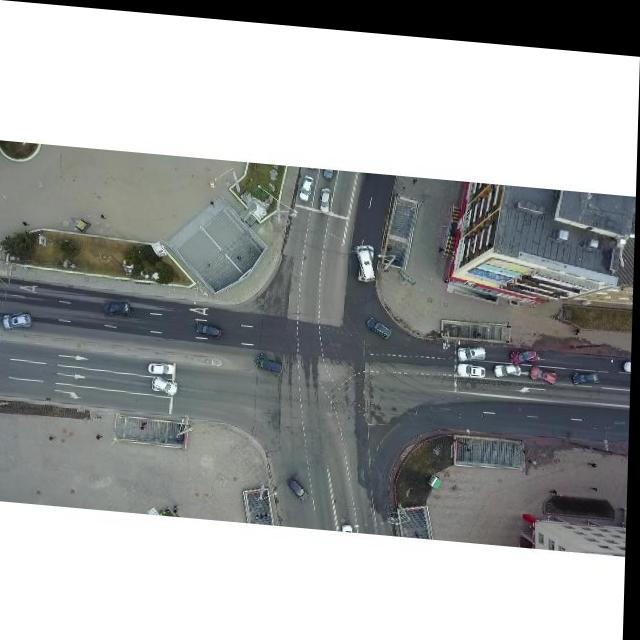vehicle: (355, 235, 380, 277), (256, 346, 288, 375), (2, 310, 35, 331), (367, 309, 395, 333), (290, 468, 312, 498), (104, 295, 134, 316), (153, 373, 181, 393), (458, 336, 489, 354), (530, 355, 559, 374), (197, 318, 225, 336), (512, 338, 539, 356), (574, 360, 603, 376), (458, 354, 488, 369), (319, 181, 335, 209), (496, 353, 523, 369), (300, 170, 315, 198), (150, 359, 178, 373)
